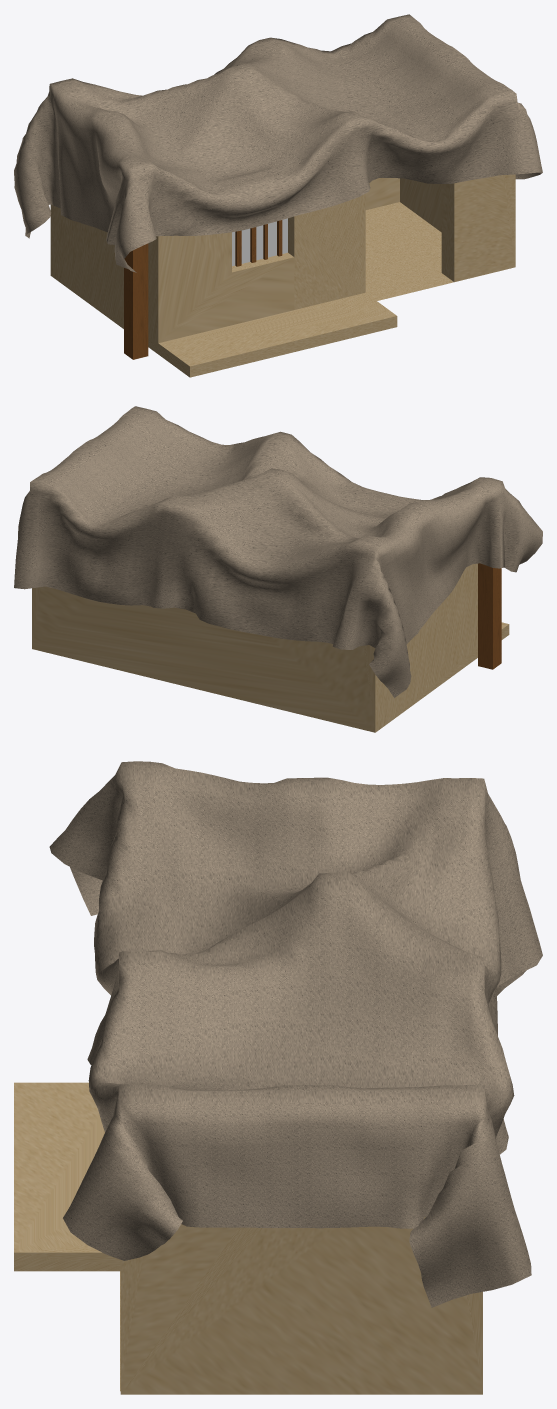
File: dom2.10(uvdelayu).fbx
3 views of the same model, one above another, from view 1: azimuth 30°, elevation 25°; view 2: azimuth 150°, elevation 25°; view 3: azimuth 270°, elevation 25° (orthographic). The views are drawn at different scales.
Parts seen in each view (by area): view 1: tkan, dom, Plane, balkasnarugi, steklo; view 2: tkan, dom, balkasnarugi; view 3: tkan, dom.
Boxes of the visible parts, x1,y1,x2,y2 form: tkan: (14,14,542,272); dom: (50,174,515,377); Plane: (365,202,510,300); balkasnarugi: (124,243,148,359); steklo: (232,218,287,266); tkan: (14,406,542,697); dom: (32,563,509,732); balkasnarugi: (478,563,501,669); tkan: (49,761,542,1307); dom: (14,1082,482,1394).
Size of the model in its own units: 2051 by 919 by 1289.
6 materials, 5 textured.
